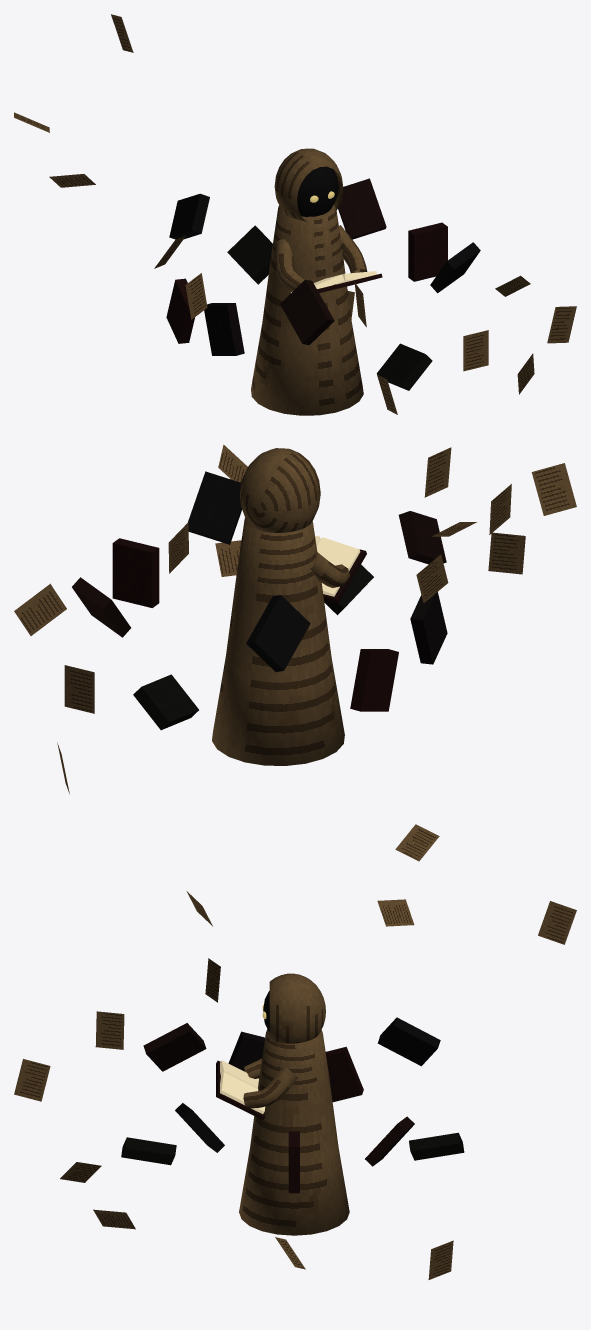
File: archiviste.glb
3 views of the same model, one above another, from view 1: azimuth 30°, elevation 25°; view 2: azimuth 150°, elevation 25°; view 3: azimuth 270°, elevation 25° (orthographic). The views are drawn at different scales.
Visible parts, largest first — view 1: archiviste; view 2: archiviste; view 3: archiviste.
Boxes of the visible parts, x1,y1,x2,y2 form: archiviste: [14, 14, 576, 415]; archiviste: [14, 444, 576, 794]; archiviste: [14, 824, 576, 1279].
Size of the model in its own units: 3.24 by 2.11 by 3.56.
Materials: 10 (7 with a texture image).
